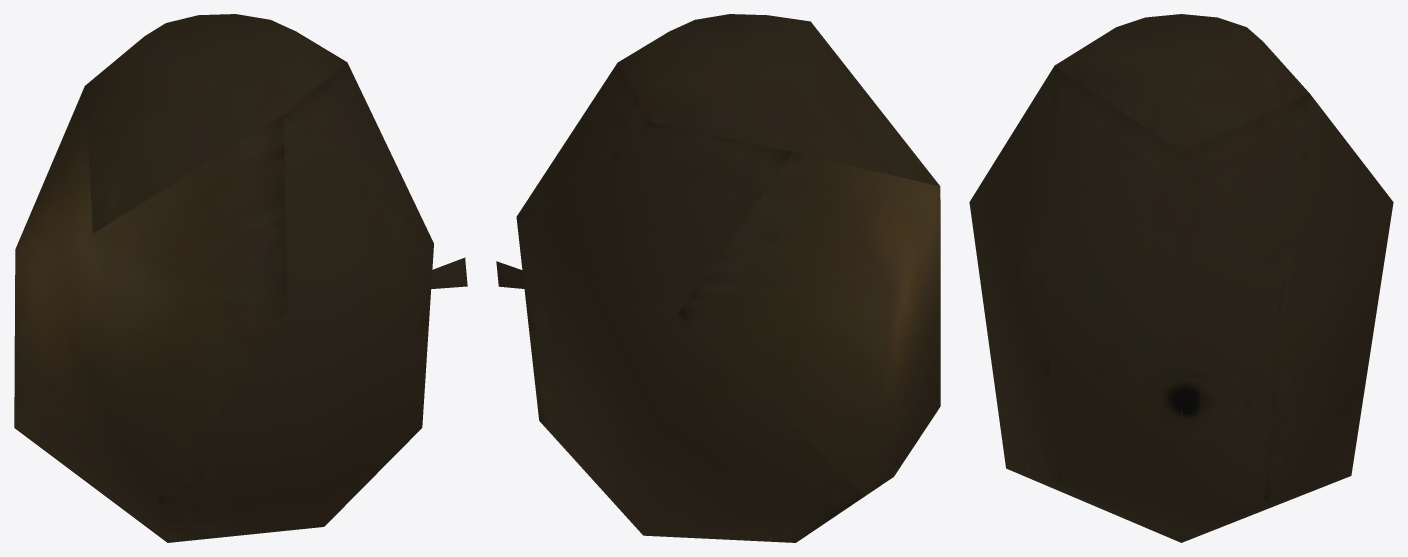
Rendered from cantina_prop_pot_large_lod1.glb.
3 views of the same model, side by side, from view 1: azimuth 30°, elevation 25°; view 2: azimuth 150°, elevation 25°; view 3: azimuth 270°, elevation 25° (orthographic).
Parts seen in each view (by area): view 1: cantina_prop_pot_large; view 2: cantina_prop_pot_large; view 3: cantina_prop_pot_large.
Part boxes in pixels (box(x1,y1,x2,y2)): cantina_prop_pot_large: box(14, 14, 467, 542); cantina_prop_pot_large: box(496, 14, 940, 542); cantina_prop_pot_large: box(969, 14, 1393, 542).
Bounding box in the file's own units: 0.3475 × 0.3409 × 0.3041.
1 material, 1 textured.
